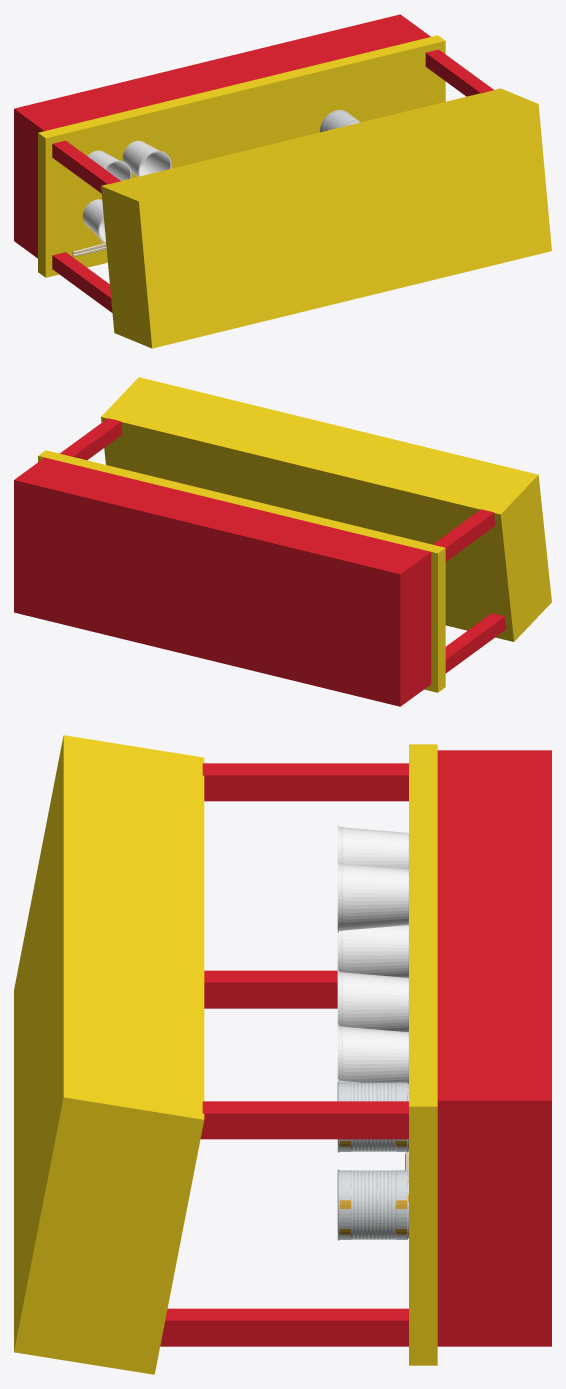
Rendered from Avater2.obj.
3 renders of one model, top to bottom at view 1: azimuth 30°, elevation 25°; view 2: azimuth 150°, elevation 25°; view 3: azimuth 270°, elevation 25°, orthographic. The views are drawn at different scales.
Visible parts, largest first — view 1: group_0_16768282, group_0_15277357, group_0_16448250, group_0_14541540; view 2: group_0_15277357, group_0_16768282; view 3: group_0_16768282, group_0_15277357, group_0_16448250, group_0_14541540.
Boxes of the visible parts, <box> form: group_0_16768282: <box>38,35,551,348</box>; group_0_15277357: <box>14,14,494,312</box>; group_0_16448250: <box>82,140,171,243</box>; group_0_14541540: <box>320,110,360,132</box>; group_0_15277357: <box>14,418,506,706</box>; group_0_16768282: <box>38,377,551,692</box>; group_0_16768282: <box>14,735,437,1374</box>; group_0_15277357: <box>160,750,551,1346</box>; group_0_16448250: <box>337,825,408,1083</box>; group_0_14541540: <box>337,1081,408,1240</box>.
Size of the model in its own units: 60 by 21.43 by 37.66.
